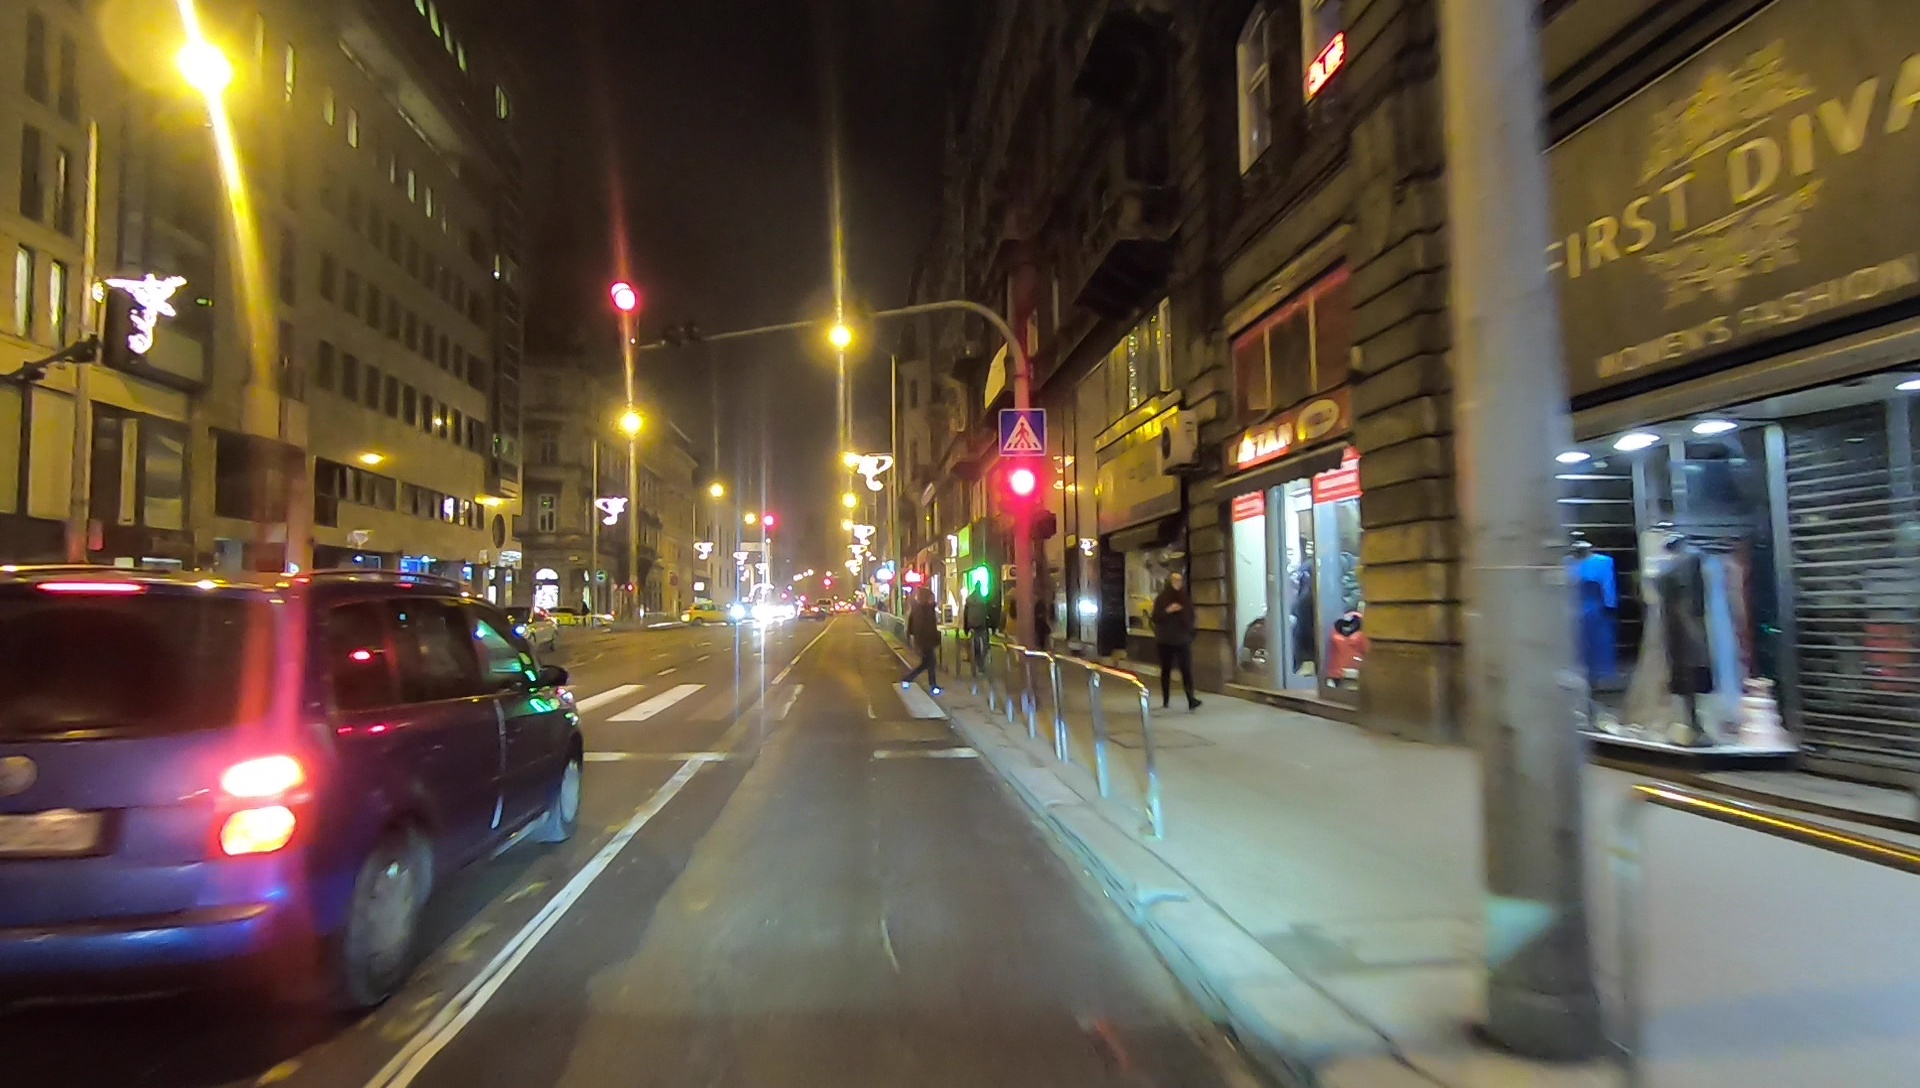person: (1151, 569, 1202, 710), (899, 586, 941, 695), (965, 580, 991, 680)
